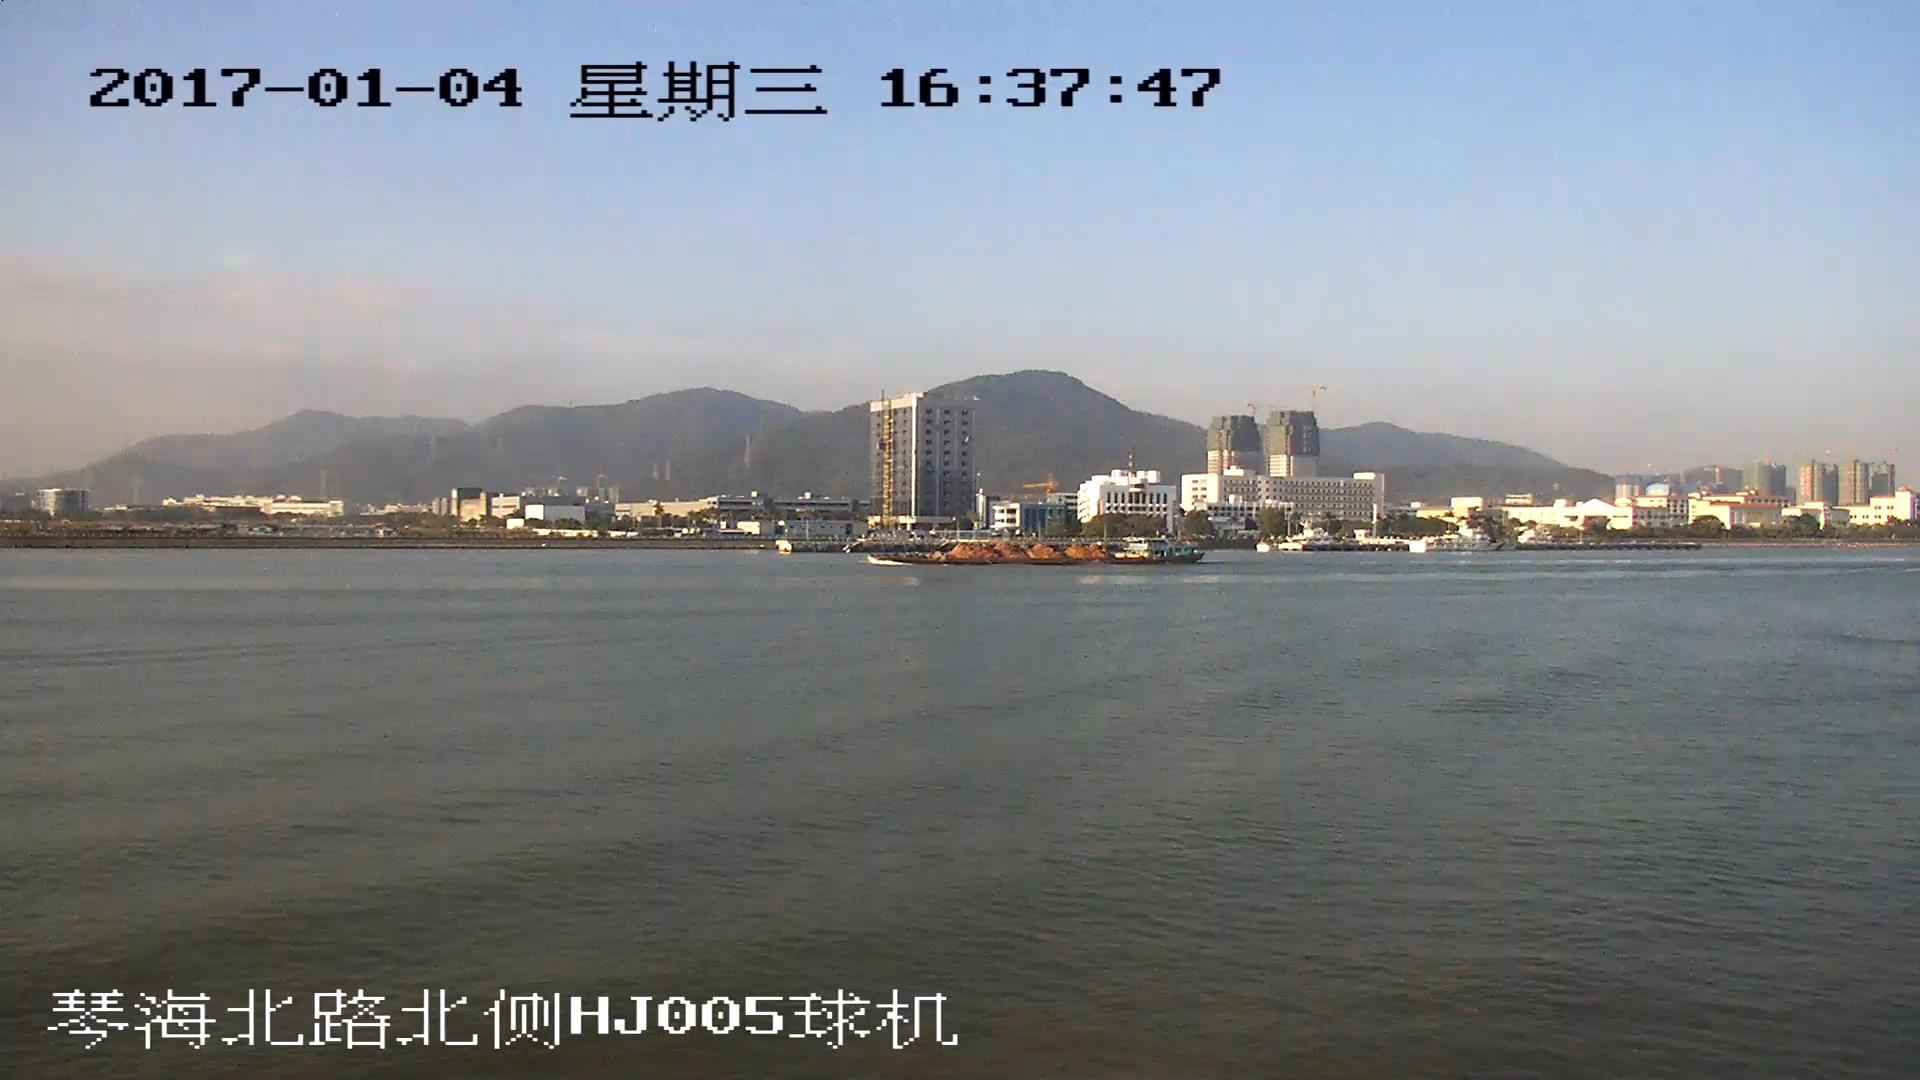ore carrier: (868, 535, 1203, 563)
